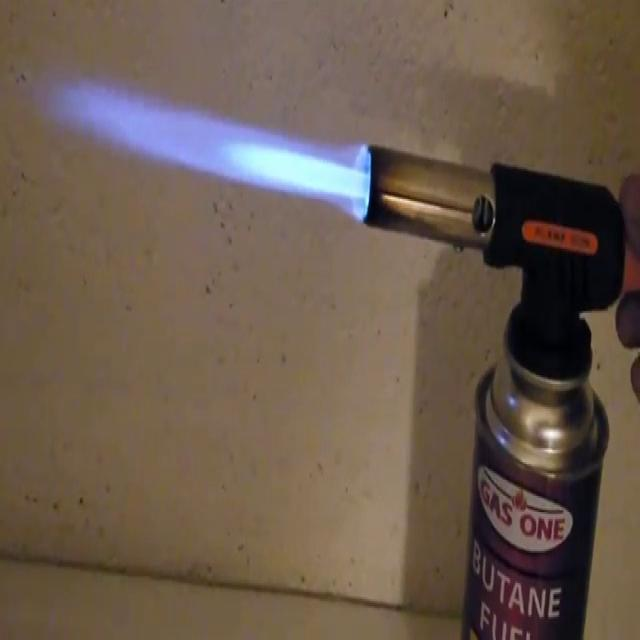fire: (31, 50, 375, 230)
